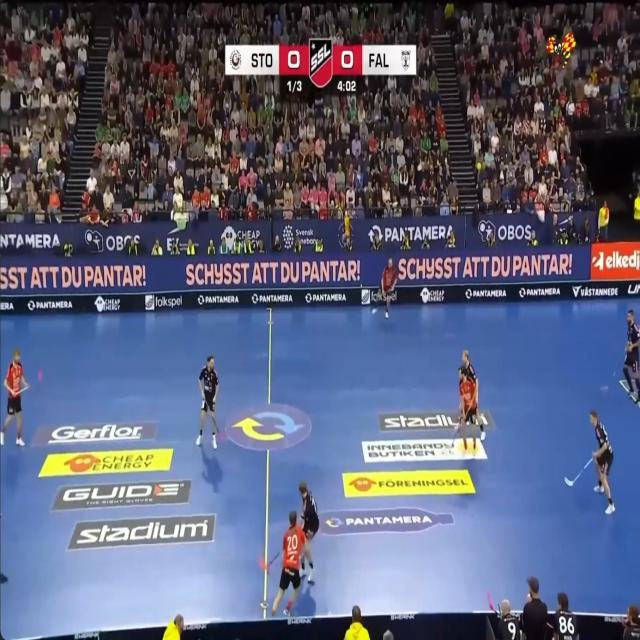player: (272, 510, 311, 615), (0, 350, 28, 445), (590, 410, 615, 514), (196, 355, 219, 449), (623, 309, 640, 404), (459, 367, 478, 451), (298, 482, 319, 545), (378, 258, 398, 317), (554, 592, 578, 639), (497, 599, 521, 639), (462, 350, 478, 406), (478, 415, 485, 441), (307, 559, 313, 582), (301, 554, 305, 575), (373, 306, 376, 312)
stick: (565, 458, 592, 485), (259, 549, 281, 572), (451, 417, 464, 447), (487, 591, 500, 616), (212, 412, 219, 434), (17, 385, 30, 396), (546, 621, 554, 629), (260, 602, 267, 609), (203, 395, 205, 401)
